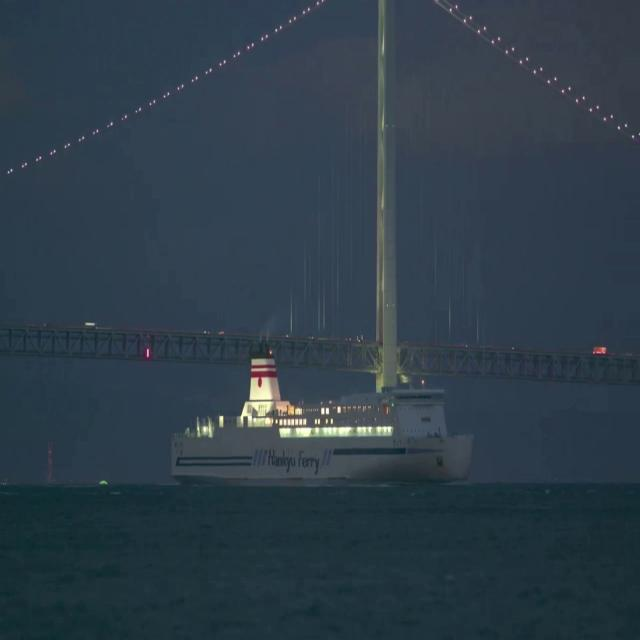OCR: (266, 442, 323, 477)
